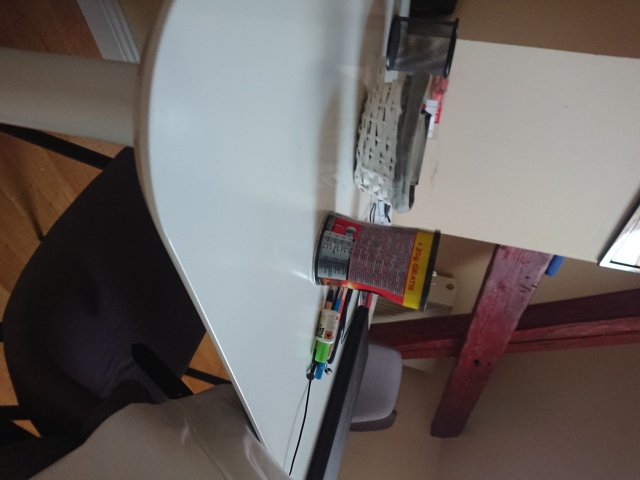Nescafe Classic 225g: (309, 208, 443, 315)
